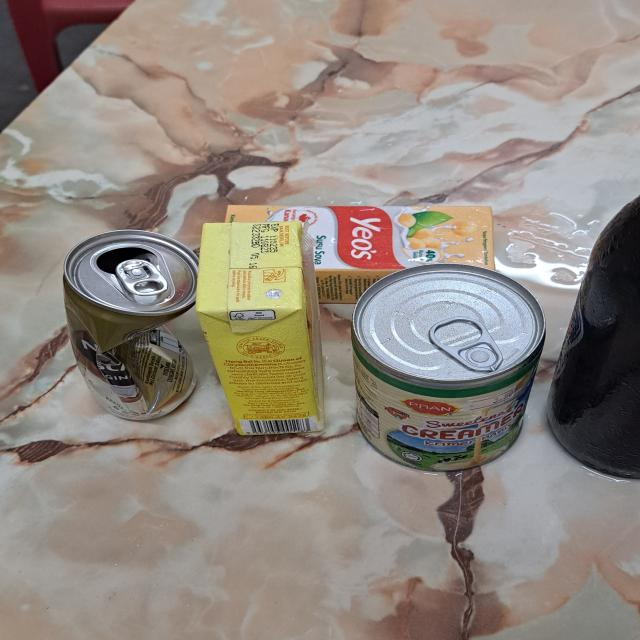can: (353, 262, 546, 470), (65, 229, 198, 420)
drink carton: (226, 203, 494, 303), (202, 222, 325, 432)
glass bottle: (548, 192, 640, 480)
pop tab: (431, 316, 502, 374), (115, 259, 168, 296)
